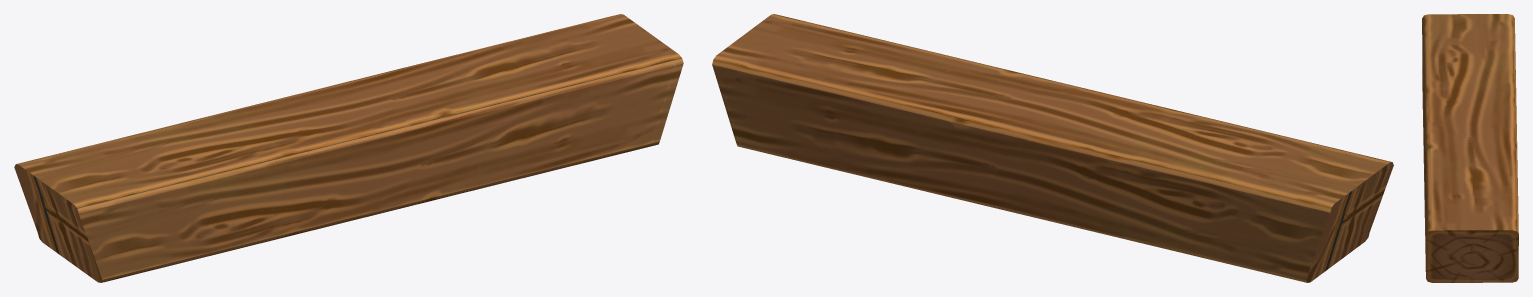
3 views of the same model, side by side, from view 1: azimuth 30°, elevation 25°; view 2: azimuth 150°, elevation 25°; view 3: azimuth 270°, elevation 25° (orthographic). The views are drawn at different scales.
Visible parts, largest first — view 1: Cube.480; view 2: Cube.480; view 3: Cube.480.
Part boxes in pixels (box(x1,y1,x2,y2)): Cube.480: box(14, 14, 683, 282); Cube.480: box(712, 14, 1393, 282); Cube.480: box(1422, 14, 1518, 282).
Bounding box in the file's own units: 232 × 30.47 × 43.84.
Materials: 1 (1 with a texture image).
